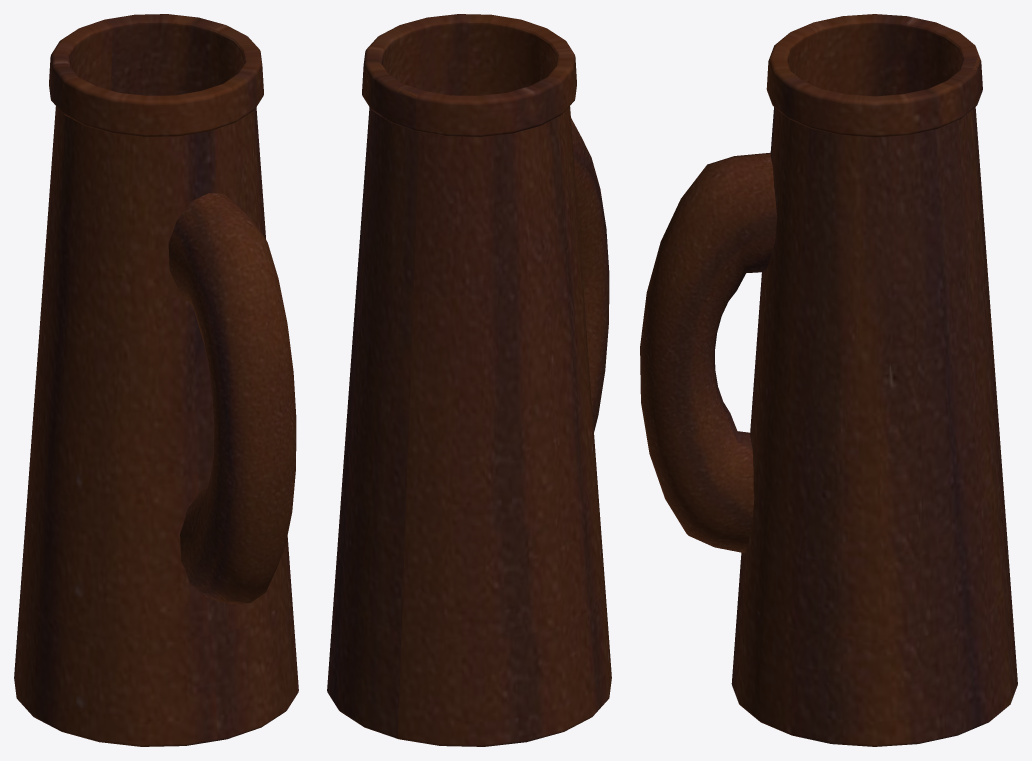
File: coolingTower_block.fbx
The picture shows the model from 3 angles, left to right: view 1: azimuth 30°, elevation 25°; view 2: azimuth 150°, elevation 25°; view 3: azimuth 270°, elevation 25°; orthographic projection.
Visible parts, largest first — view 1: pTorus2; view 2: pTorus2; view 3: pTorus2.
Boxes of the visible parts, <box> form: pTorus2: <box>14,14,298,746</box>; pTorus2: <box>327,14,611,746</box>; pTorus2: <box>640,14,1017,746</box>.
Bounding box in the file's own units: 3.09 × 7.51 × 4.08.
1 material, 1 textured.
